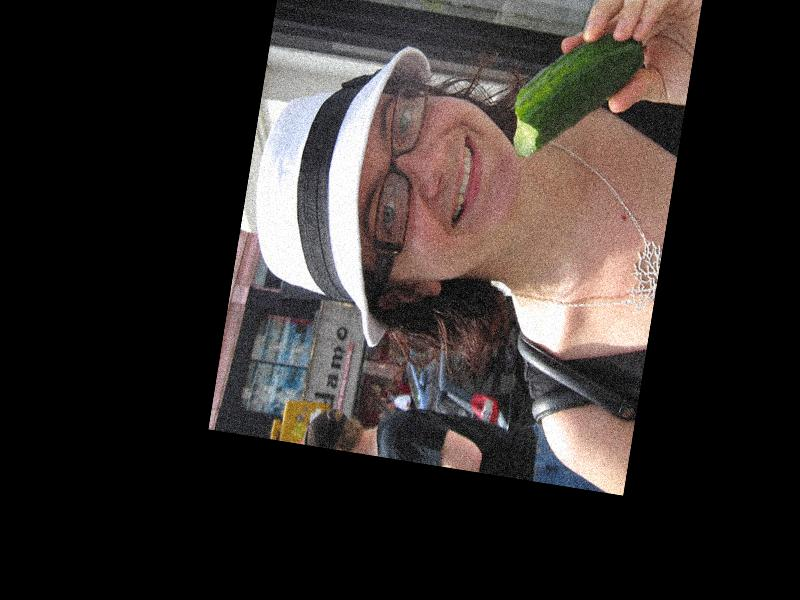Cucumber: (507, 17, 647, 171)
